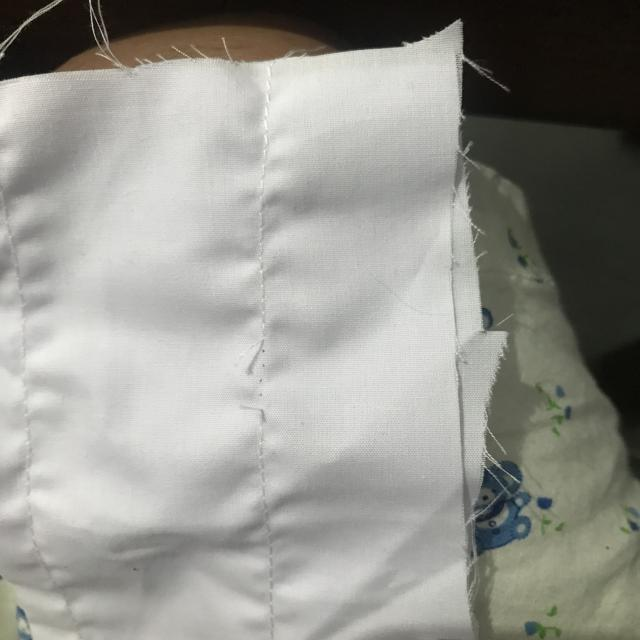broken: (222, 325, 294, 427)
